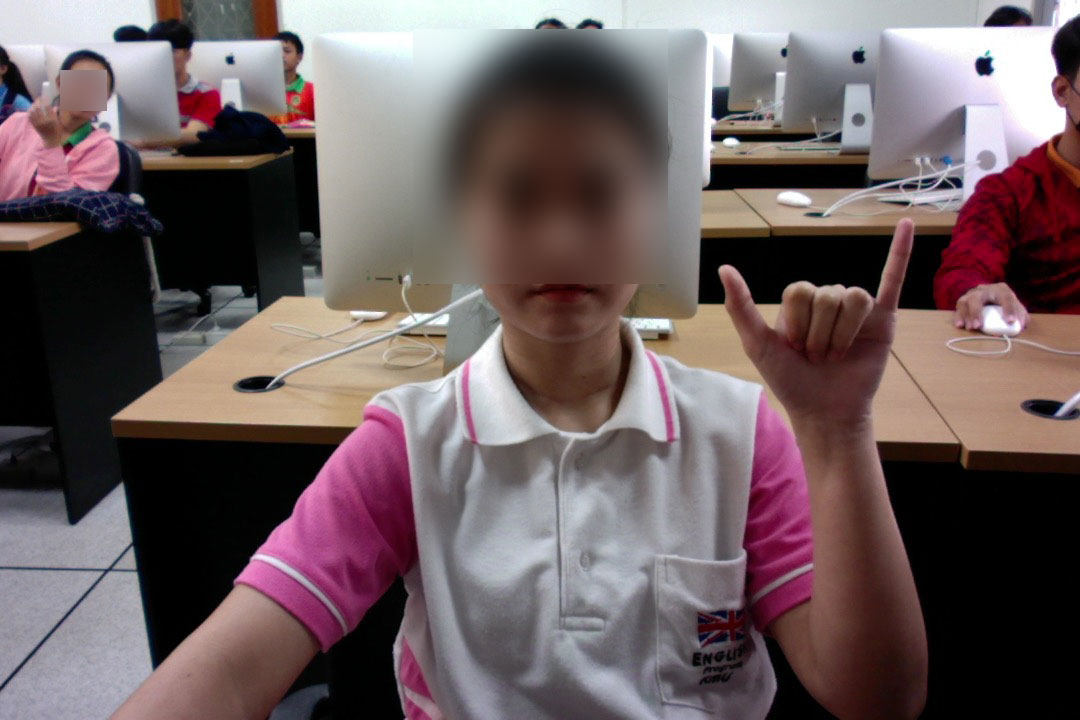yor: (712, 214, 921, 432)
